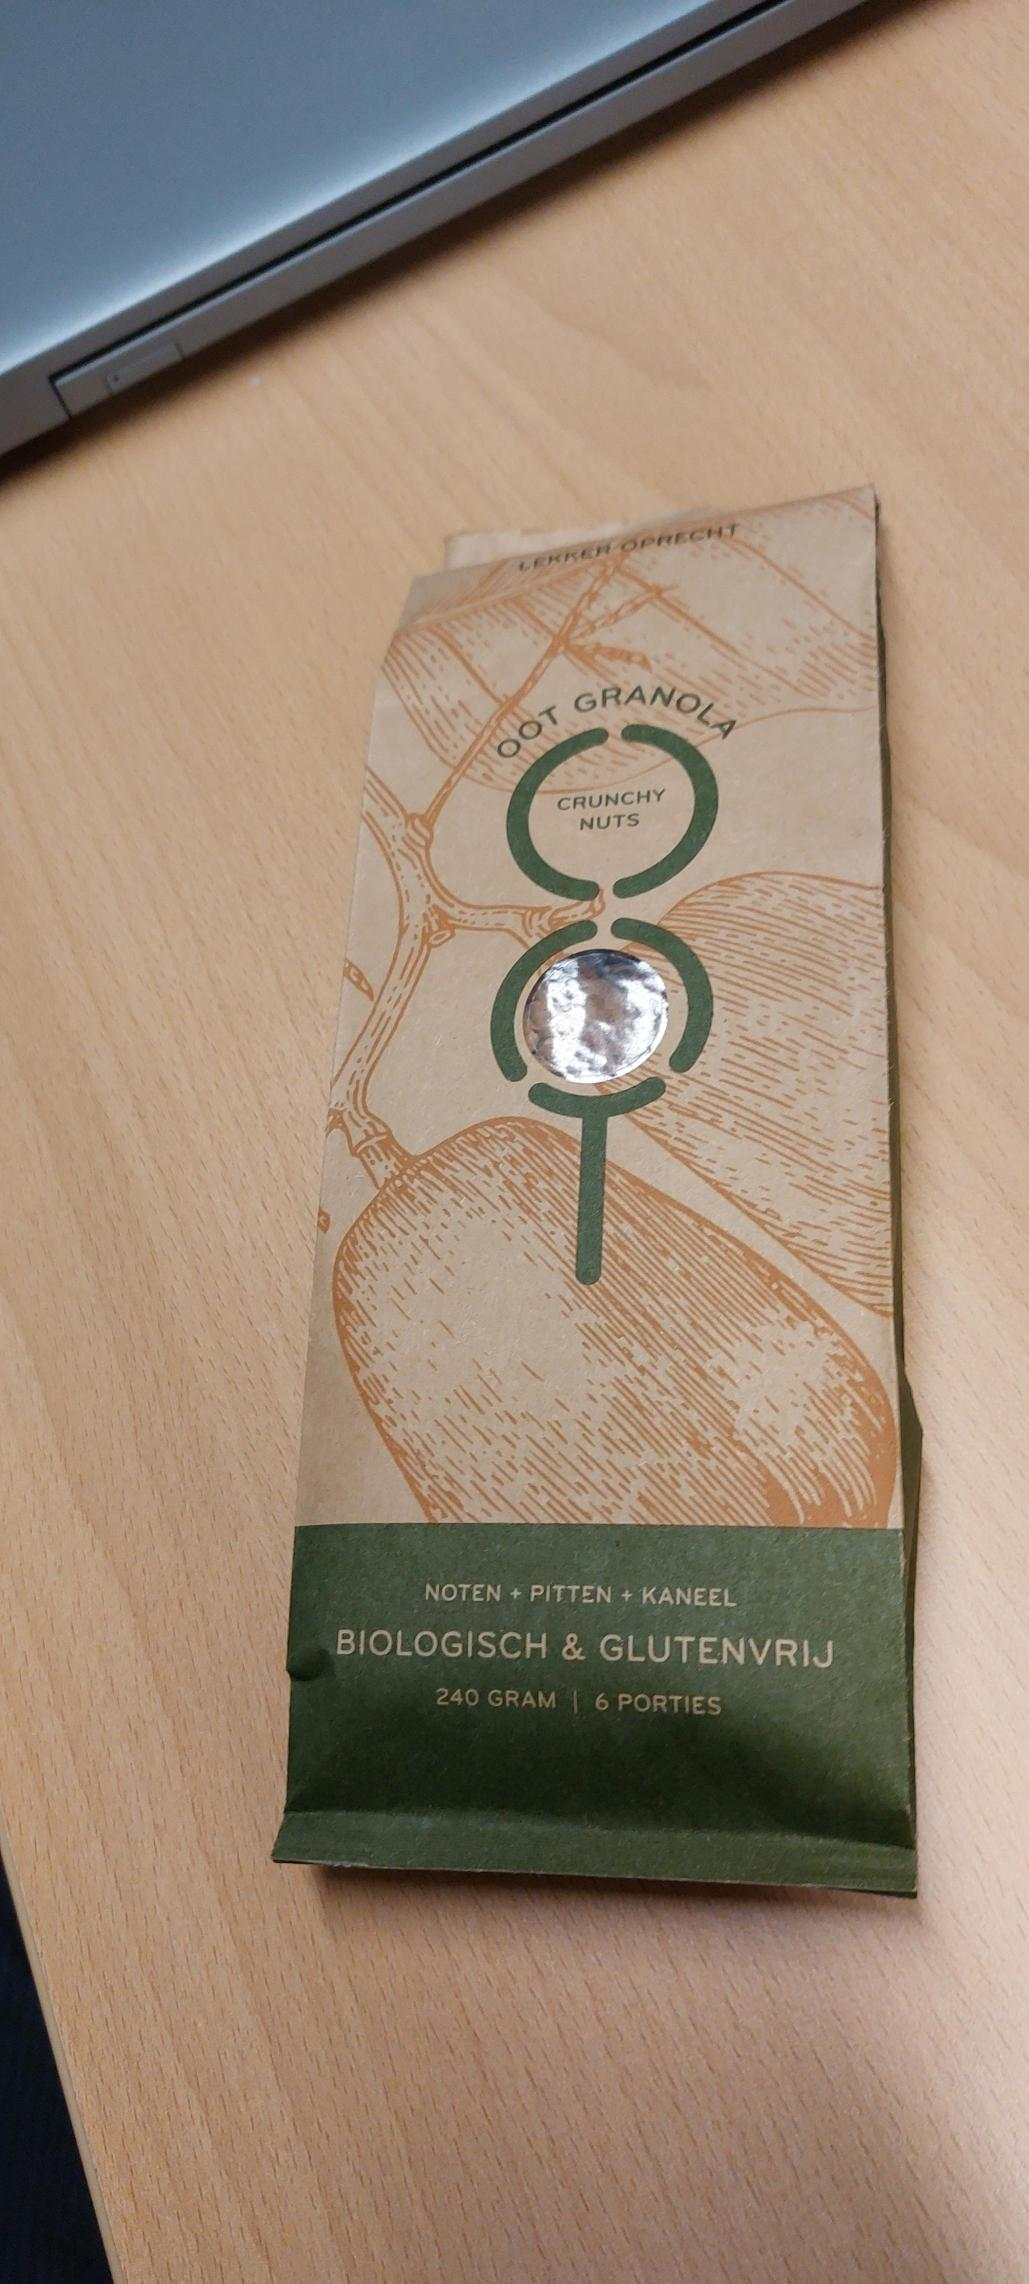CrunchyNuts: (319, 503, 899, 1859)
